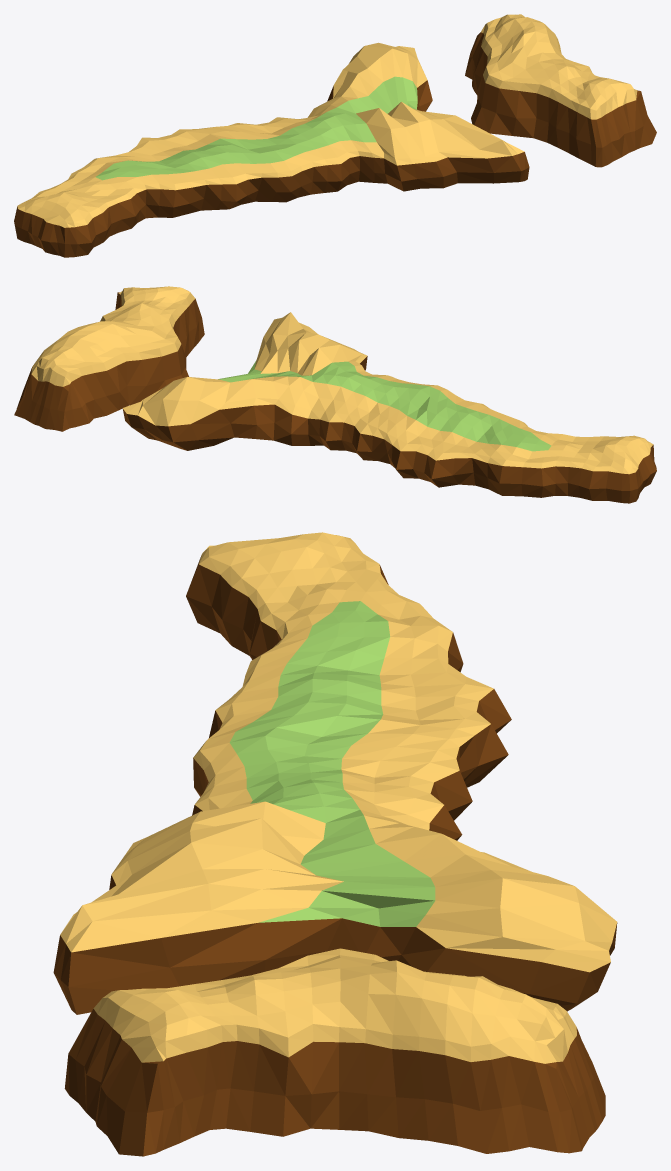
File: Island_F01_Long_Model.fbx
3 views of the same model, one above another, from view 1: azimuth 30°, elevation 25°; view 2: azimuth 150°, elevation 25°; view 3: azimuth 270°, elevation 25° (orthographic). The views are drawn at different scales.
Parts seen in each view (by area): view 1: Island_F_Long; view 2: Island_F_Long; view 3: Island_F_Long.
Boxes of the visible parts, box(x1,y1,x2,y2) form: Island_F_Long: box(14, 14, 656, 257); Island_F_Long: box(14, 286, 656, 503); Island_F_Long: box(53, 532, 617, 1156).
Size of the model in its own units: 305 by 35.6 by 129.
